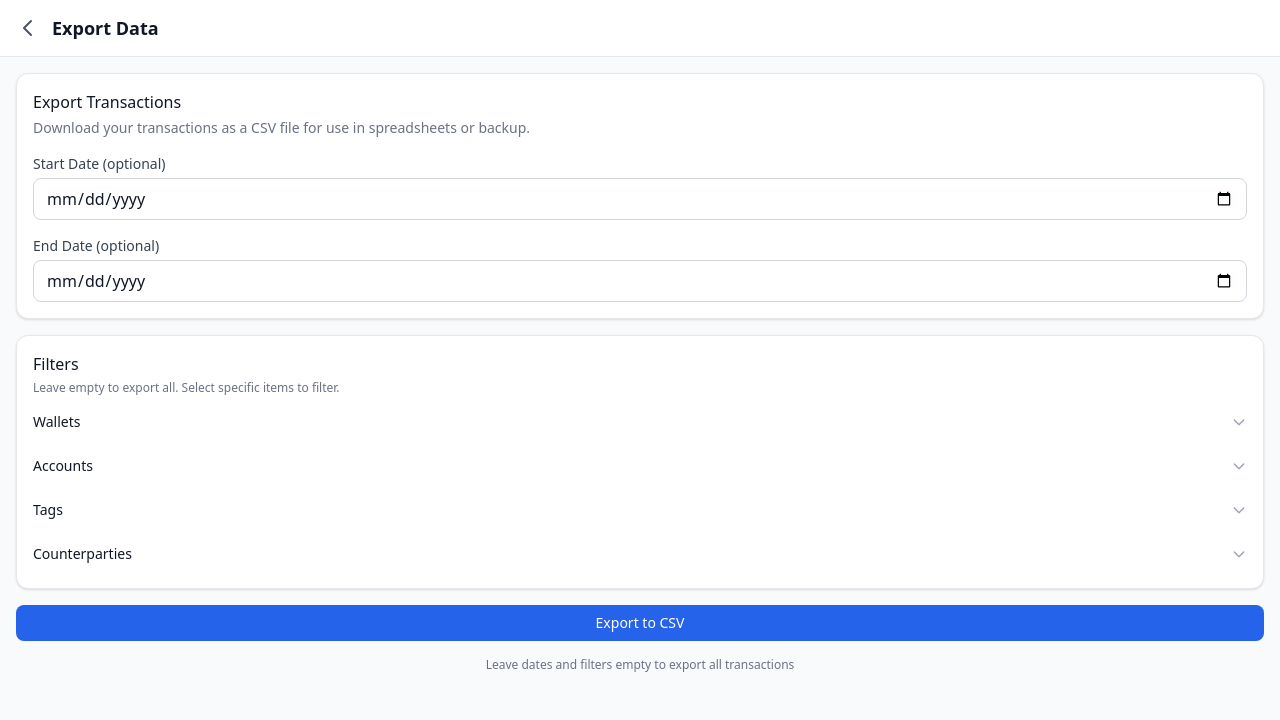
ExportPage › PIN flow › opens PIN modal when export button clicked
What coordinates should you click on to do the following:
click the button "Export to CSV"
I would click on:
 (640, 623)
Its box is [16, 605, 1264, 641].
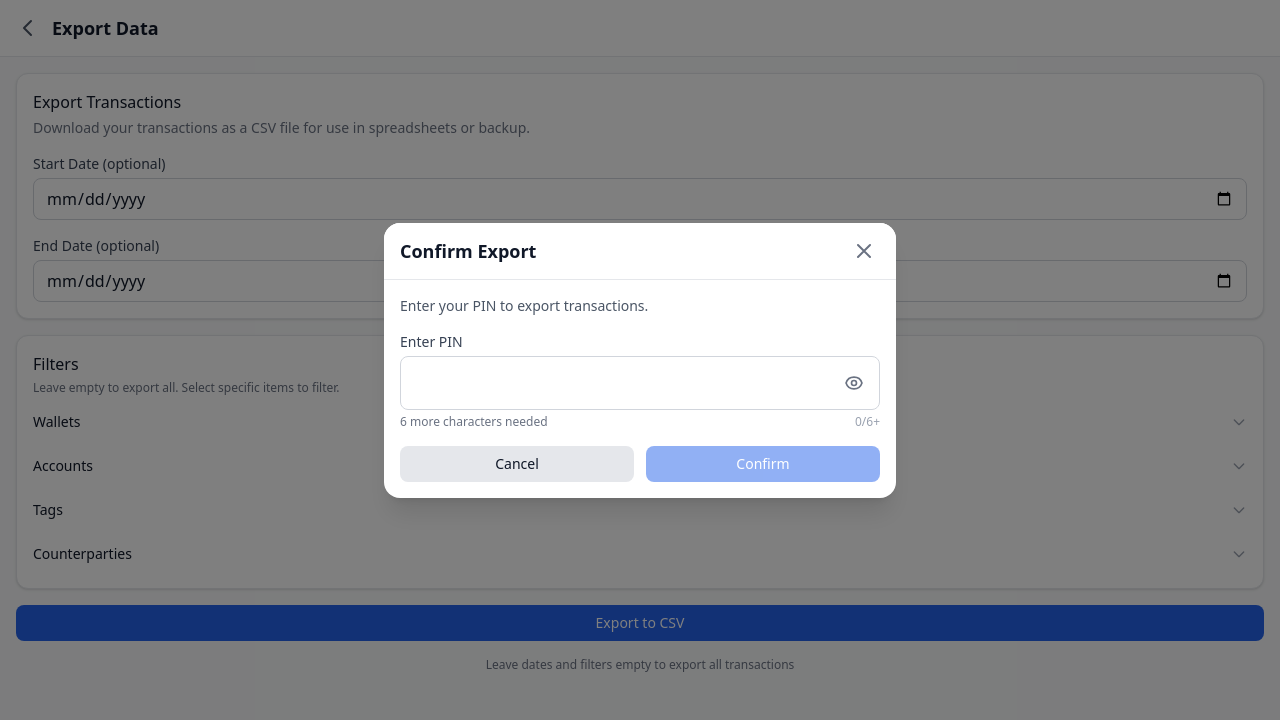
expect the heading "Confirm Export" is shown: met, box [400, 236, 536, 264]
